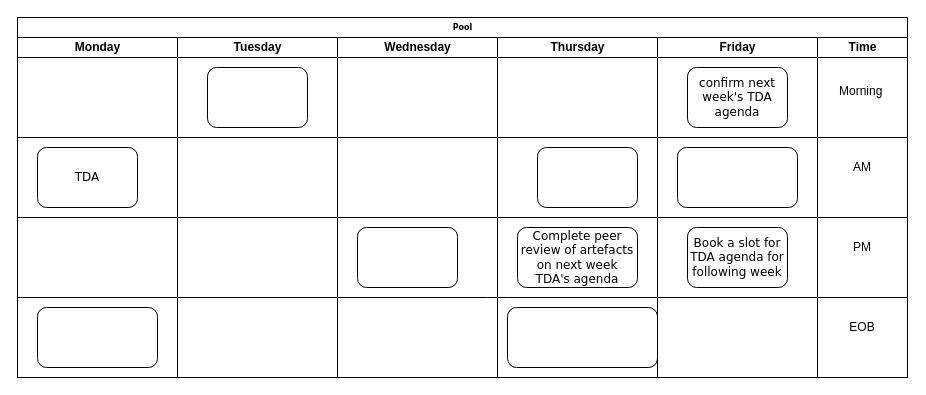
Image size: 926x395. Some labels were removed from this diagram. The centre of each missing label's shape, as x and y in pixels:
"Architectural Team weekly meeting" goes at (x=587, y=177).
"Architectural Towers status review meeting" goes at (x=407, y=257).
"Confirm agenda for next week's Architectural tower status meeting" goes at (x=737, y=177).
"Confirm the Team meeting agenda" goes at (x=257, y=97).
"Publish last reviewer's comments from peer review" goes at (x=97, y=337).
"Publish to Box final version of the artefact to be presented on next wee's TDA" goes at (x=582, y=337).
